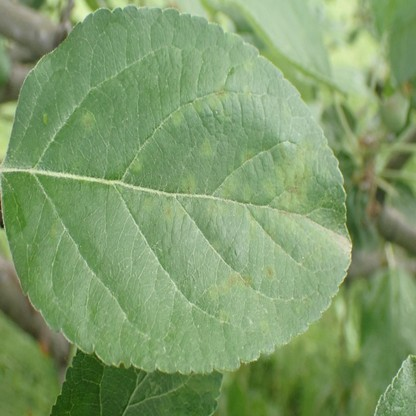powdery_mildew: (325, 231, 350, 255), (402, 358, 414, 378)
scab: (263, 142, 312, 208), (275, 212, 320, 260), (208, 165, 240, 215), (195, 89, 229, 109), (210, 274, 236, 297), (246, 206, 263, 232), (240, 147, 255, 173), (181, 176, 197, 196), (82, 111, 96, 130), (162, 201, 174, 220), (133, 154, 146, 170), (236, 276, 253, 287), (171, 109, 184, 123), (242, 183, 251, 202), (143, 196, 153, 212), (265, 266, 275, 282), (199, 142, 211, 155), (259, 321, 270, 335), (219, 310, 229, 322), (243, 85, 252, 97), (178, 206, 186, 217)
